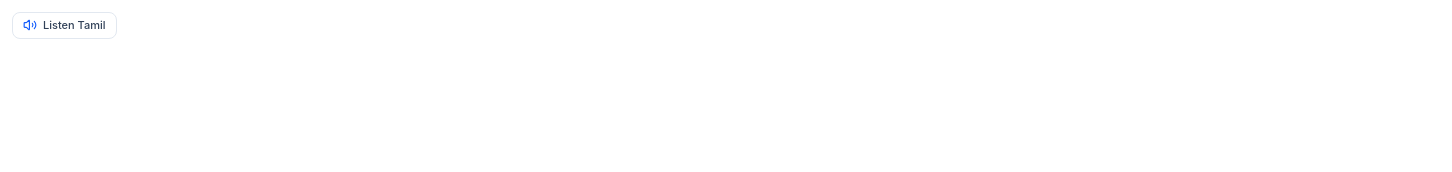
Test case: VoiceOutput (Text-to-Speech) workflows › refuses to silently speak in an unrelated language when both server TTS and matching browser voice are unavailable
Click the button "Listen Tamil" at (64,25), box 12,12 -> 116,38
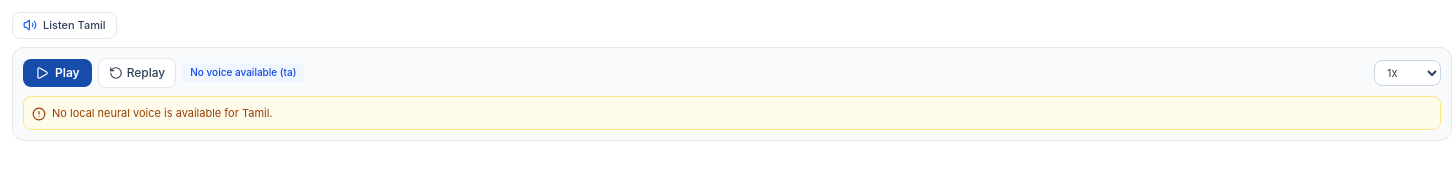
Check: the text "No local neural voice is available for Tamil." is shown, box 52,104 -> 273,121
